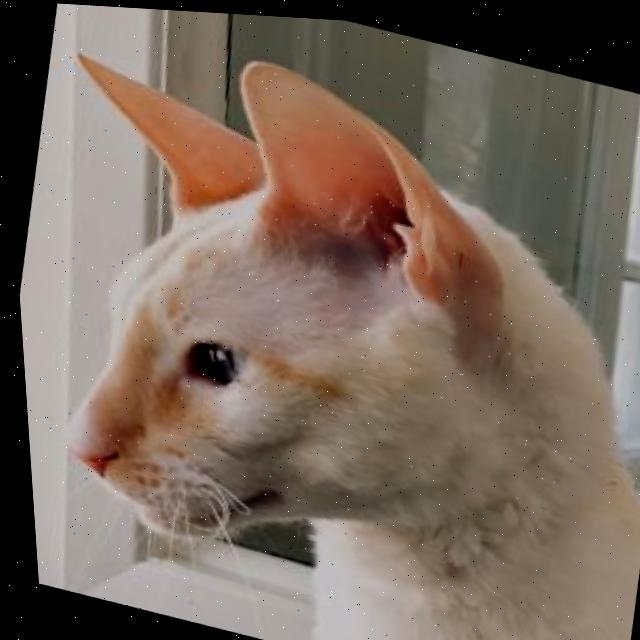Cornish Rex: (0, 2, 640, 640)
